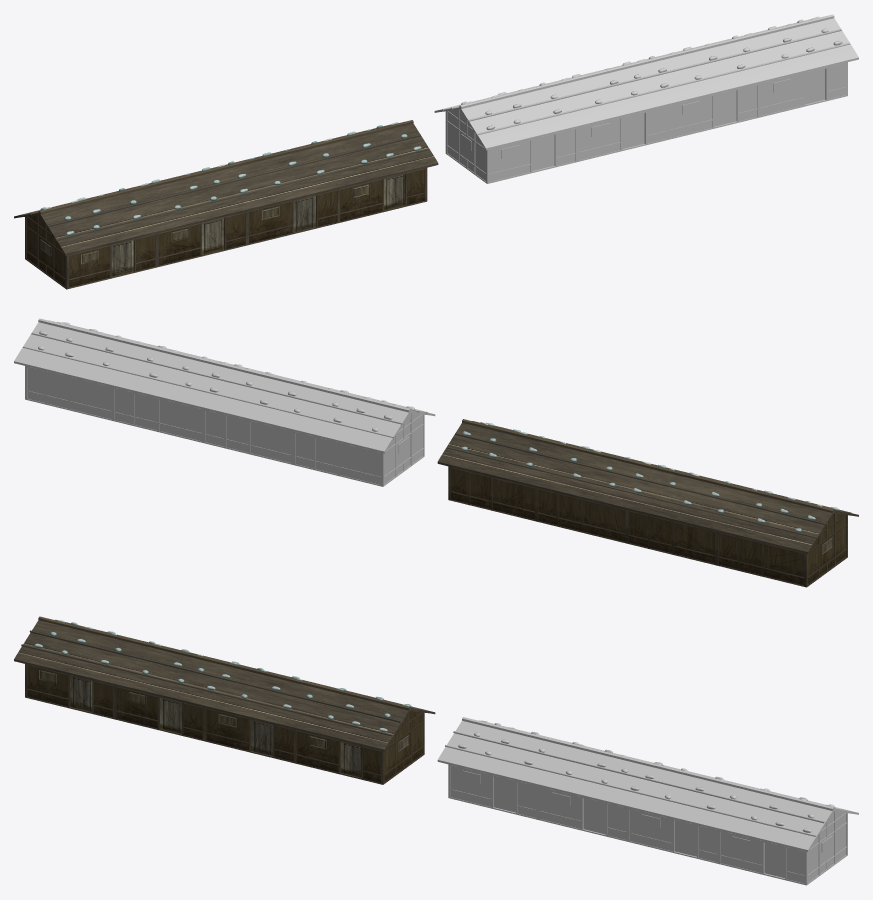
File: BgMD_Akimoto_House_2_01.fbx
3 views of the same model, one above another, from view 1: azimuth 30°, elevation 25°; view 2: azimuth 150°, elevation 25°; view 3: azimuth 330°, elevation 25° (orthographic).
Parts seen in each view (by area): view 1: BgMD_Akimoto_House_2_02, BgMD_Akimoto_House_2_01; view 2: BgMD_Akimoto_House_2_02, BgMD_Akimoto_House_2_01; view 3: BgMD_Akimoto_House_2_01, BgMD_Akimoto_House_2_02.
Boxes of the visible parts, <box> form: BgMD_Akimoto_House_2_02: <box>434,14,858,183</box>; BgMD_Akimoto_House_2_01: <box>14,120,438,289</box>; BgMD_Akimoto_House_2_02: <box>14,318,435,486</box>; BgMD_Akimoto_House_2_01: <box>437,419,858,587</box>; BgMD_Akimoto_House_2_01: <box>14,616,435,784</box>; BgMD_Akimoto_House_2_02: <box>437,717,858,885</box>.
Bounding box in the file's own units: 4420 × 344 × 520.
